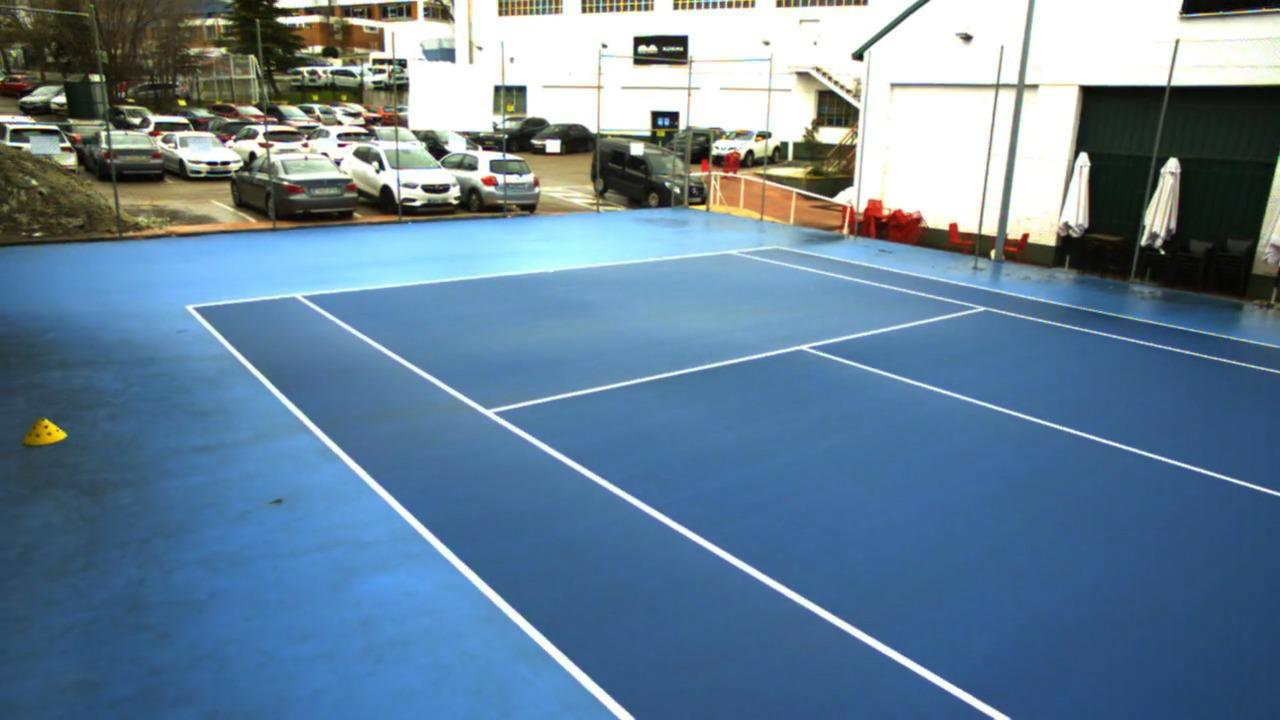cancha_tenis: (298, 249, 1280, 720)
point_f1: (287, 283, 313, 305)
point_f2: (722, 239, 750, 262)
point_fc1: (543, 262, 561, 279)
point_i1: (477, 399, 505, 423)
point_i2: (963, 298, 997, 319)
point_ic1: (788, 332, 821, 359)
